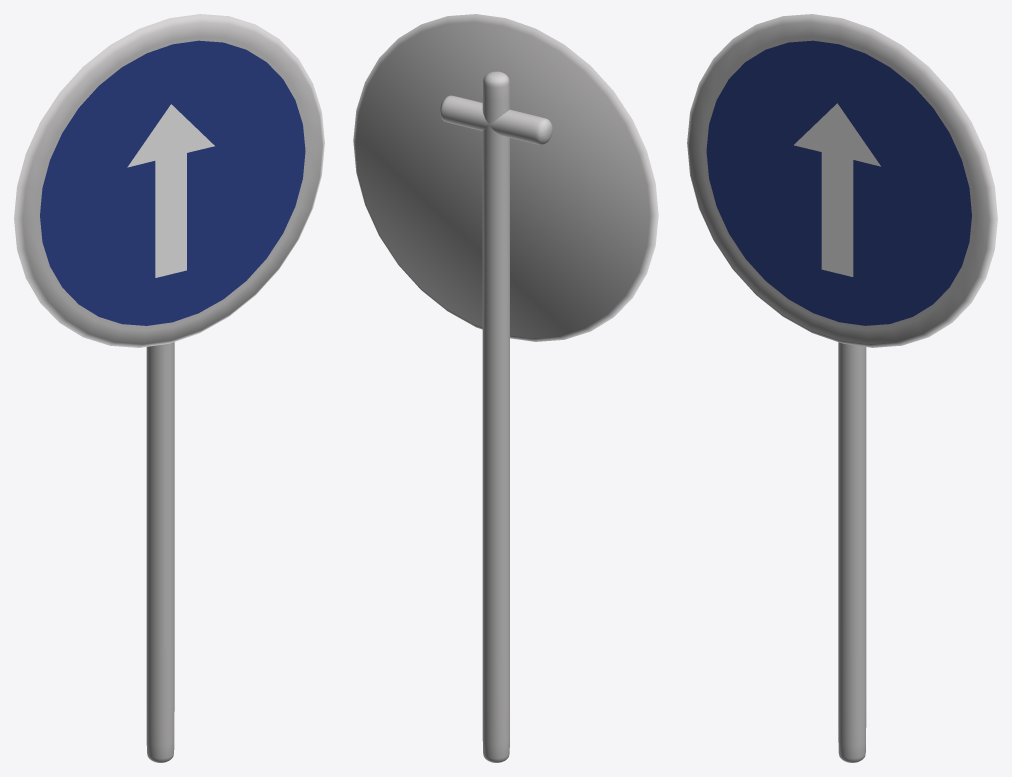
Rendered from Foward_SIgn.fbx.
The picture shows the model from 3 angles, left to right: view 1: azimuth 30°, elevation 25°; view 2: azimuth 150°, elevation 25°; view 3: azimuth 330°, elevation 25°; orthographic projection.
Parts seen in each view (by area): view 1: Plane.004; view 2: Plane.004; view 3: Plane.004.
Part boxes in pixels (x1,y1,x2,y2): Plane.004: (14, 14, 324, 762); Plane.004: (353, 14, 658, 762); Plane.004: (687, 14, 997, 762).
Bounding box in the file's own units: 121 × 278 × 13.28.
